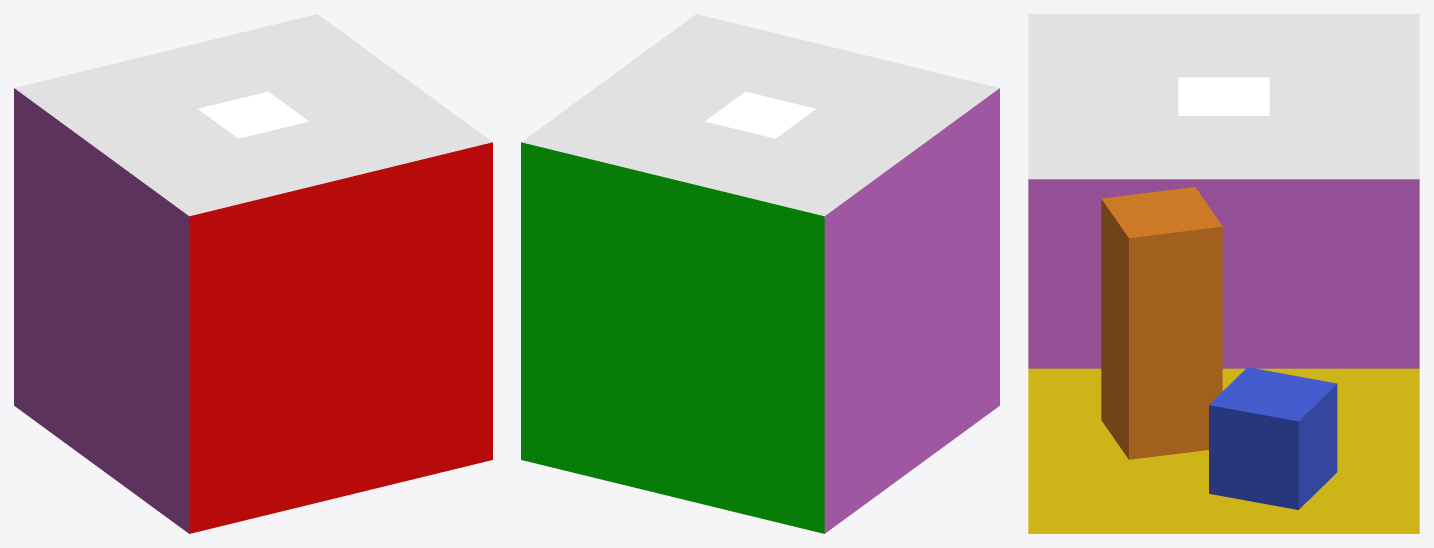
The model's file is my_cornell_3.glb.
3 views of the same model, side by side, from view 1: azimuth 30°, elevation 25°; view 2: azimuth 150°, elevation 25°; view 3: azimuth 270°, elevation 25° (orthographic). The views are drawn at different scales.
Parts seen in each view (by area): view 1: LeftWall, BackWall, Ceiling, Light; view 2: RightWall, BackWall, Ceiling, Light; view 3: Ceiling, BackWall, Floor, Prism, Cube, Light.
Boxes of the visible parts, bbox=[...] form: LeftWall: bbox=[189, 142, 492, 533]; BackWall: bbox=[14, 88, 189, 533]; Ceiling: bbox=[14, 14, 492, 216]; Light: bbox=[198, 91, 308, 138]; RightWall: bbox=[521, 142, 824, 533]; BackWall: bbox=[824, 88, 999, 533]; Ceiling: bbox=[521, 14, 999, 216]; Light: bbox=[705, 91, 815, 138]; Ceiling: bbox=[1028, 14, 1419, 179]; BackWall: bbox=[1028, 179, 1419, 368]; Floor: bbox=[1028, 368, 1419, 533]; Prism: bbox=[1101, 187, 1222, 459]; Cube: bbox=[1209, 367, 1337, 509]; Light: bbox=[1178, 77, 1269, 115].
Bounding box in the file's own units: 8 × 8 × 8.
